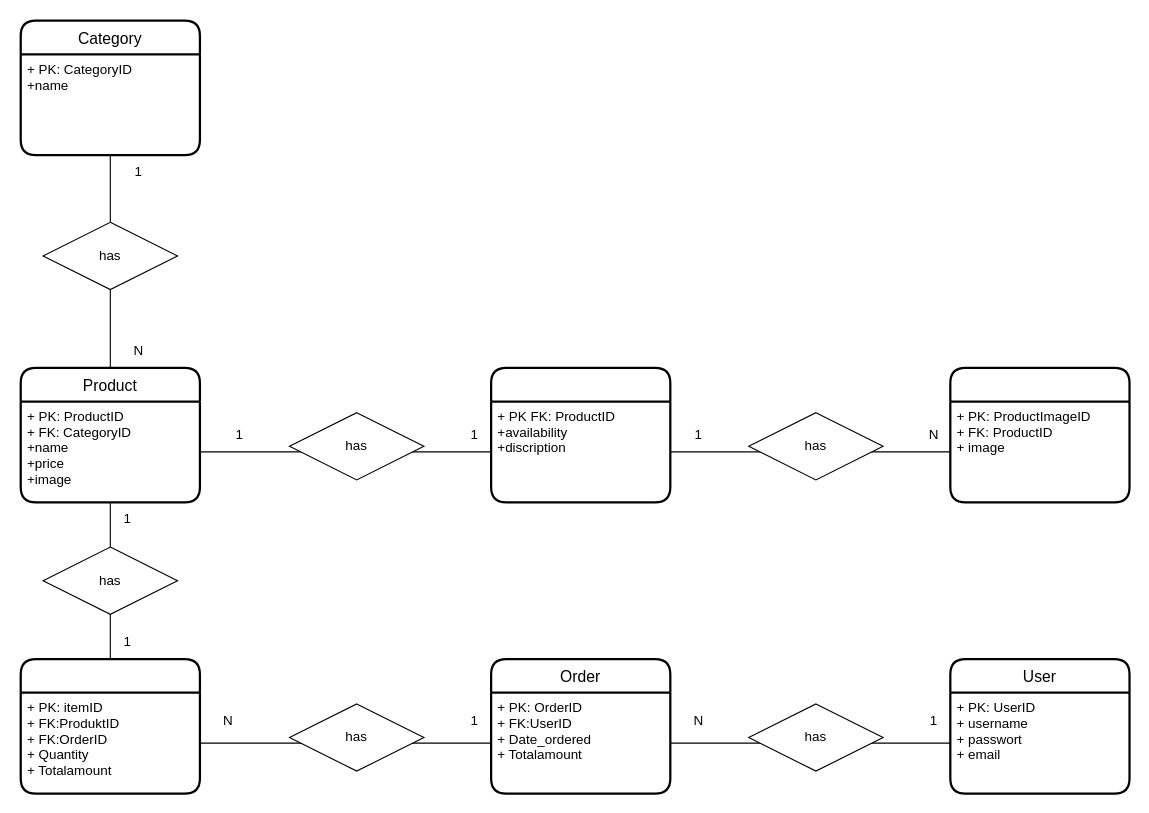
The diagram is 1149 pixels wide and 813 high, and some of its shapes have lost their labels. The box of each missing label's shape, as (x1, y1, x2, y2) in pixels:
Orderitem: (19, 657, 200, 794)
ProductDetail: (489, 366, 671, 503)
ProductDetailImage: (949, 366, 1130, 503)
